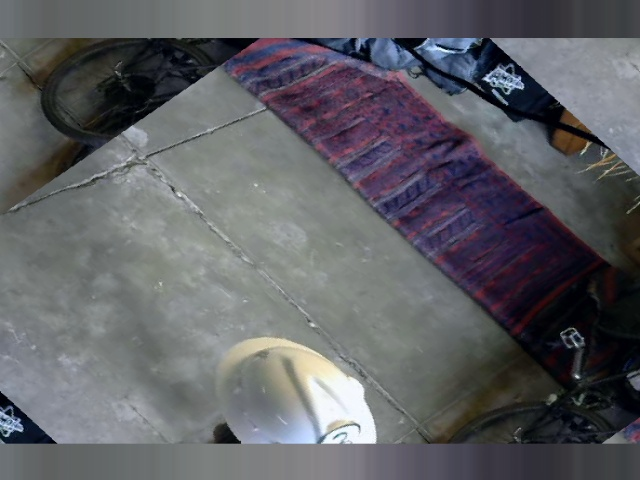three: (311, 417, 374, 466)
